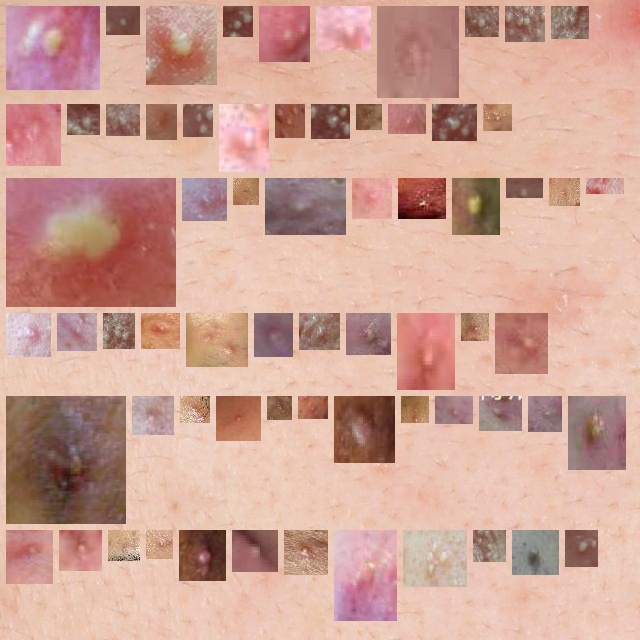pustule: (14, 186, 168, 299), (14, 404, 118, 516), (14, 14, 92, 82), (385, 14, 451, 90), (342, 538, 389, 613), (154, 14, 209, 77), (273, 186, 338, 227), (405, 321, 447, 382), (576, 404, 618, 462), (342, 404, 387, 455), (503, 321, 547, 366), (411, 538, 459, 579), (14, 112, 53, 158), (227, 112, 261, 164), (194, 321, 240, 359), (267, 14, 302, 54), (460, 186, 492, 227), (14, 538, 45, 576), (324, 14, 363, 42), (187, 538, 218, 573), (520, 538, 551, 567), (224, 404, 253, 433), (14, 321, 43, 349), (292, 538, 320, 567), (406, 186, 438, 211), (190, 186, 219, 213), (240, 538, 270, 564), (354, 321, 383, 347), (67, 538, 94, 563), (140, 402, 166, 427), (262, 321, 285, 349), (440, 112, 469, 133), (360, 186, 384, 211), (65, 321, 89, 343), (307, 321, 332, 342), (487, 404, 514, 423), (513, 14, 537, 34), (149, 321, 172, 341), (319, 112, 342, 131), (559, 14, 581, 31), (536, 404, 554, 424), (573, 538, 590, 559), (111, 321, 127, 341), (396, 112, 418, 126), (154, 112, 169, 132), (114, 112, 132, 128), (481, 538, 498, 554), (473, 14, 491, 29), (443, 404, 465, 416), (75, 112, 92, 127), (283, 112, 297, 130), (116, 538, 132, 553), (191, 112, 205, 129), (114, 14, 132, 27), (514, 186, 535, 197), (231, 14, 245, 29), (557, 186, 572, 198), (594, 178, 616, 186), (188, 404, 202, 415), (469, 321, 481, 333), (491, 112, 504, 123), (154, 538, 165, 551), (409, 404, 421, 415), (241, 186, 251, 197), (364, 112, 374, 122), (306, 404, 320, 411), (275, 404, 284, 412)
